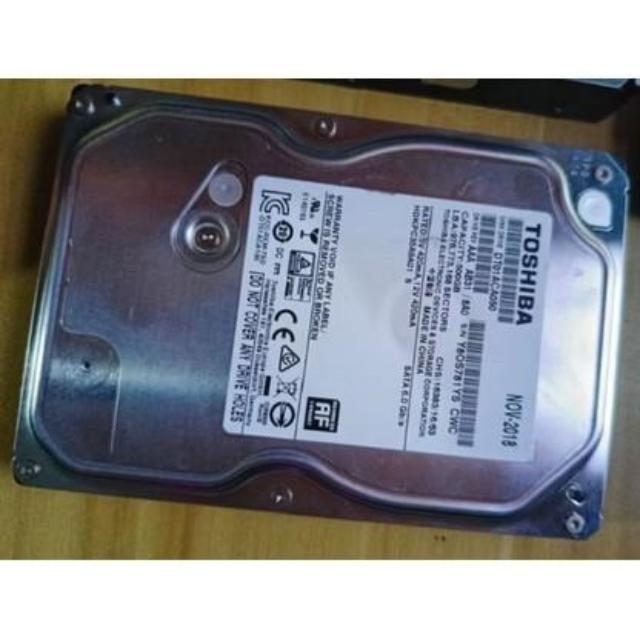DISK: (2, 80, 624, 542)
